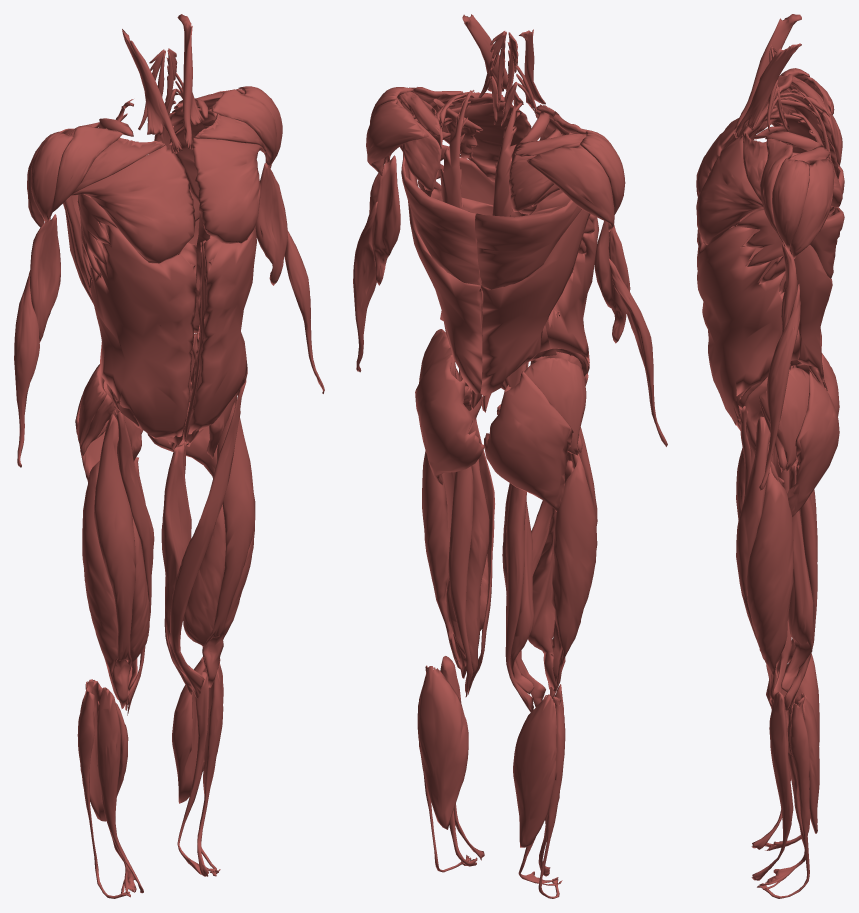
File: muscular-mobile.glb
3 views of the same model, side by side, from view 1: azimuth 30°, elevation 25°; view 2: azimuth 150°, elevation 25°; view 3: azimuth 270°, elevation 25° (orthographic). The views are drawn at different scales.
Parts seen in each view (by area): view 1: za.external-abdominal-oblique-muscle-r, za.sternocostal-head-of-pectoralis-major-muscle-r, za.external-abdominal-oblique-muscle-l, za.rectus-femoris-muscle-r, za.sternocostal-head-of-pectoralis-major-muscle-l, za.rectus-femoris-muscle-l, za.sartorius-muscle-l, za.vastus-lateralis-muscle-r, za.semimembranosus-muscle-l, za.vastus-medialis-muscle-l, za.tibialis-anterior-muscle-r, za.sartorius-muscle-r (+30 smaller); view 2: za.latissimus-dorsi-muscle-r, za.latissimus-dorsi-muscle-l, za.gluteus-maximus-muscle-r, za.vastus-lateralis-muscle-r, za.soleus-muscle-l, za.gluteus-maximus-muscle-l, za.soleus-muscle-r, za.scapular-spinal-part-of-deltoid-muscle-r, za.semitendinosus-muscle-l, za.semimembranosus-muscle-l, za.external-abdominal-oblique-muscle-r, za.vastus-lateralis-muscle-l (+31 smaller); view 3: za.external-abdominal-oblique-muscle-l, za.vastus-lateralis-muscle-l, za.latissimus-dorsi-muscle-l, za.sternocostal-head-of-pectoralis-major-muscle-l, za.gluteus-maximus-muscle-l, za.semimembranosus-muscle-l, za.rectus-femoris-muscle-l, za.brachioradialis-muscle-l, za.serratus-anterior-muscle-l, za.acromial-part-of-deltoid-muscle-l, za.tibialis-anterior-muscle-l, za.scapular-spinal-part-of-deltoid-muscle-l (+26 smaller).
Part boxes in pixels (<box>): za.external-abdominal-oblique-muscle-r: <box>89,224,196,438</box>; za.sternocostal-head-of-pectoralis-major-muscle-r: <box>71,145,195,263</box>; za.external-abdominal-oblique-muscle-l: <box>188,225,256,434</box>; za.rectus-femoris-muscle-r: <box>94,414,135,708</box>; za.sternocostal-head-of-pectoralis-major-muscle-l: <box>193,138,262,243</box>; za.rectus-femoris-muscle-l: <box>202,402,255,687</box>; za.sartorius-muscle-l: <box>170,379,246,698</box>; za.vastus-lateralis-muscle-r: <box>82,460,118,700</box>; za.semimembranosus-muscle-l: <box>161,443,191,673</box>; za.vastus-medialis-muscle-l: <box>183,505,225,670</box>; za.tibialis-anterior-muscle-r: <box>97,687,143,893</box>; za.sartorius-muscle-r: <box>114,408,154,715</box>; za.latissimus-dorsi-muscle-r: <box>475,200,590,395</box>; za.latissimus-dorsi-muscle-l: <box>401,152,482,393</box>; za.gluteus-maximus-muscle-r: <box>484,371,573,511</box>; za.vastus-lateralis-muscle-r: <box>551,453,597,692</box>; za.soleus-muscle-l: <box>418,666,468,829</box>; za.gluteus-maximus-muscle-l: <box>415,354,484,484</box>; za.soleus-muscle-r: <box>513,694,556,847</box>; za.scapular-spinal-part-of-deltoid-muscle-r: <box>526,144,614,231</box>; za.semitendinosus-muscle-l: <box>448,466,473,697</box>; za.semimembranosus-muscle-l: <box>446,459,489,675</box>; za.external-abdominal-oblique-muscle-r: <box>545,214,598,365</box>; za.vastus-lateralis-muscle-l: <box>422,451,461,669</box>; za.external-abdominal-oblique-muscle-l: <box>697,226,785,424</box>; za.vastus-lateralis-muscle-l: <box>746,467,793,700</box>; za.latissimus-dorsi-muscle-l: <box>789,207,844,381</box>; za.sternocostal-head-of-pectoralis-major-muscle-l: <box>696,136,763,244</box>; za.gluteus-maximus-muscle-l: <box>787,371,839,516</box>; za.semimembranosus-muscle-l: <box>781,462,813,692</box>; za.rectus-femoris-muscle-l: <box>736,416,772,707</box>; za.brachioradialis-muscle-l: <box>759,284,800,490</box>; za.serratus-anterior-muscle-l: <box>736,130,837,294</box>; za.acromial-part-of-deltoid-muscle-l: <box>772,158,809,249</box>; za.tibialis-anterior-muscle-l: <box>751,692,793,880</box>; za.scapular-spinal-part-of-deltoid-muscle-l: <box>790,159,834,258</box>.
Bounding box in the file's own units: 0.5792 × 1.55 × 0.2464.
